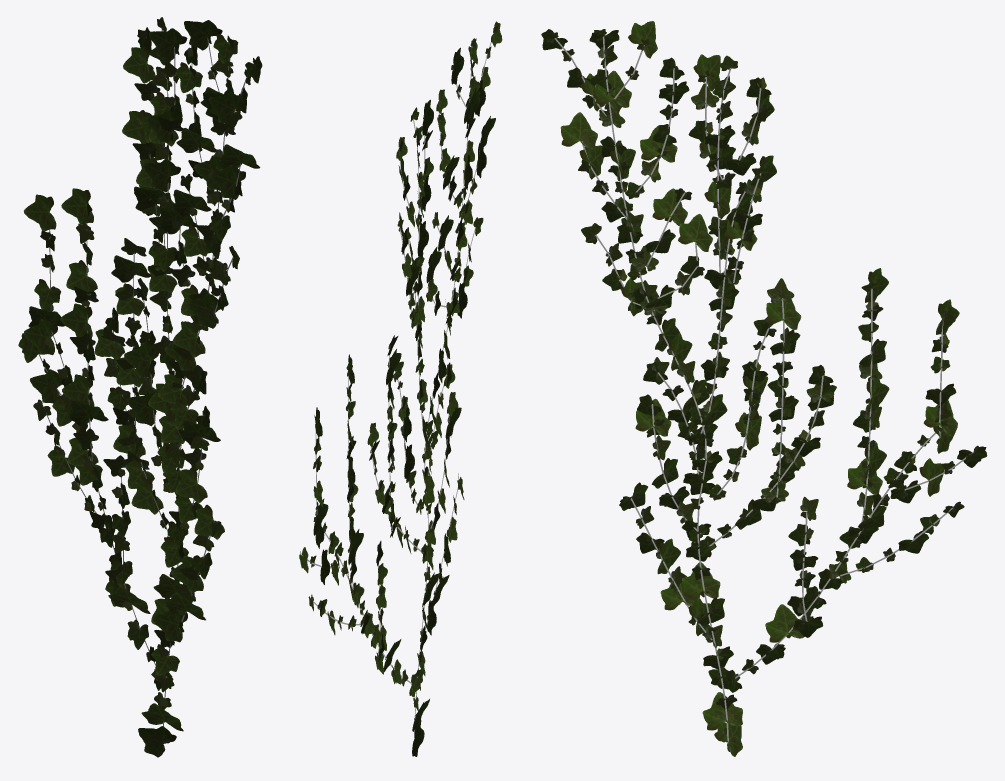
The model's file is SM_Ivy_BezierCurve_007.fbx.
3 views of the same model, side by side, from view 1: azimuth 30°, elevation 25°; view 2: azimuth 150°, elevation 25°; view 3: azimuth 270°, elevation 25° (orthographic). The views are drawn at different scales.
Visible parts, largest first — view 1: SM_Ivy_BezierCurve_007_LOD0; view 2: SM_Ivy_BezierCurve_007_LOD0; view 3: SM_Ivy_BezierCurve_007_LOD0.
Boxes of the visible parts, box(x1,y1,x2,y2) form: SM_Ivy_BezierCurve_007_LOD0: box(18, 17, 262, 757); SM_Ivy_BezierCurve_007_LOD0: box(299, 21, 502, 756); SM_Ivy_BezierCurve_007_LOD0: box(541, 21, 987, 756).
Bounding box in the file's own units: 10.38 × 115 × 208.
